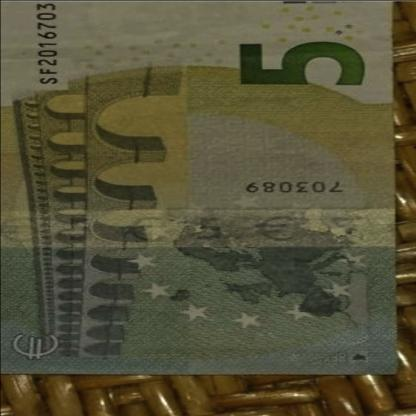euro_banknote: (6, 3, 396, 376)
